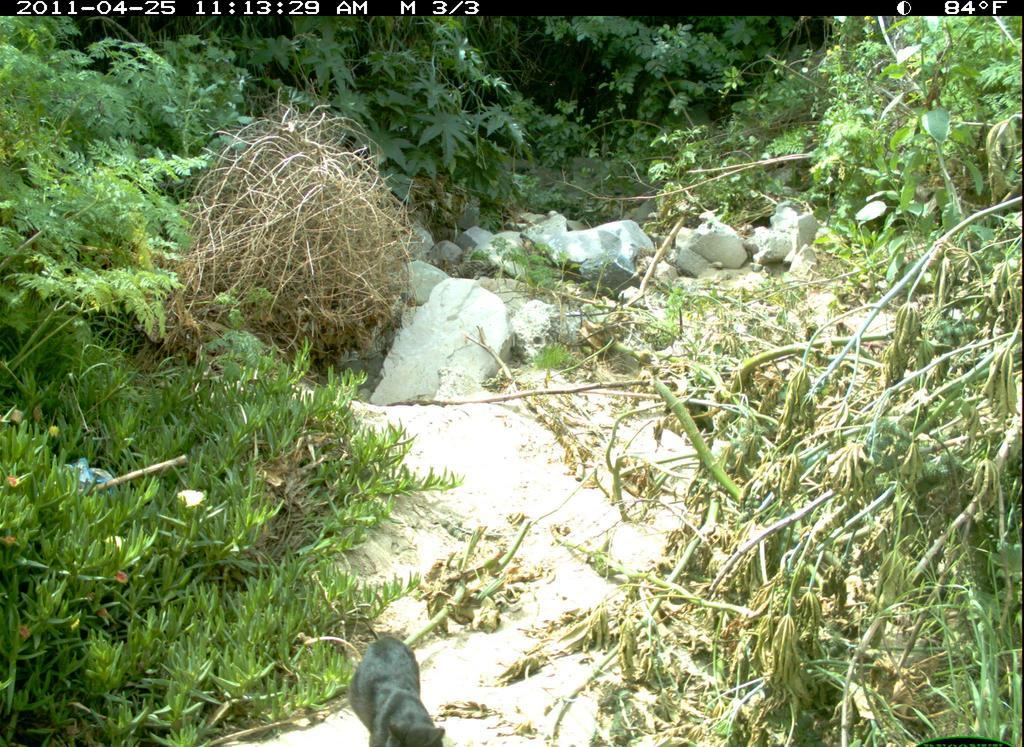cat: (349, 630, 454, 747)
